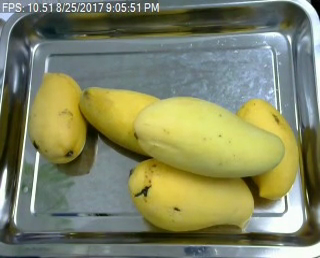Mango: (133, 91, 284, 179), (127, 157, 256, 234), (231, 95, 297, 203), (79, 83, 170, 161), (27, 69, 91, 163)
